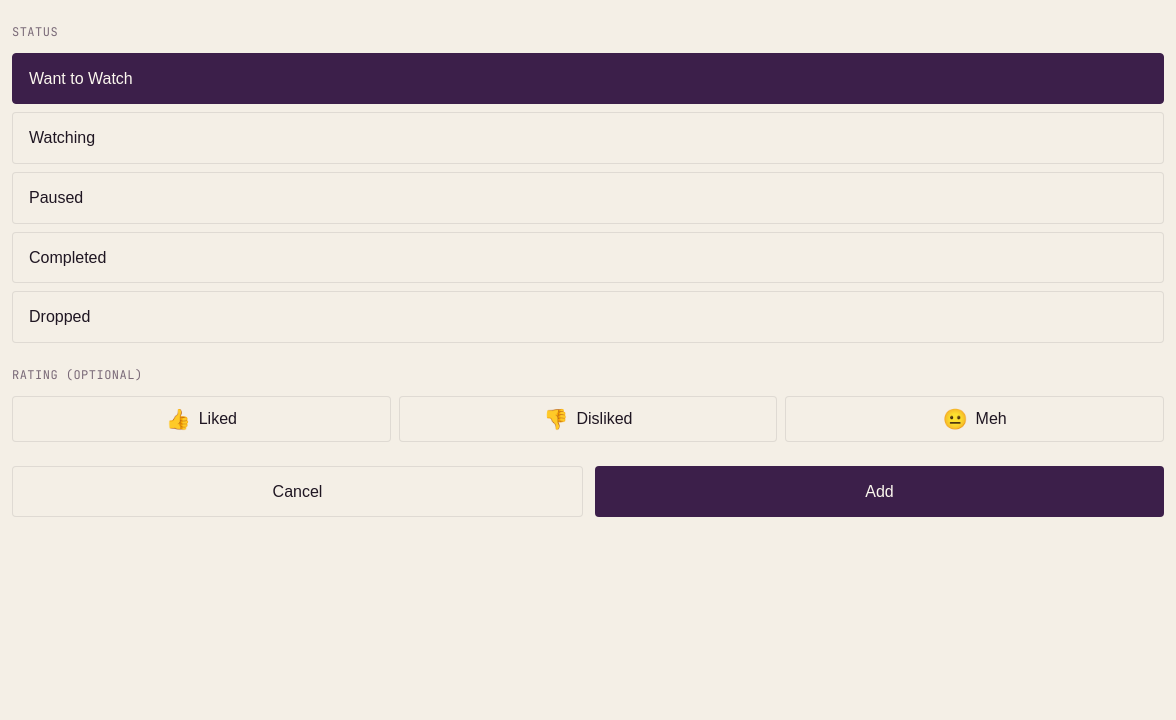
Test case: WatchEntryForm › shows season input when status is watching or paused
Click the radio button labelled "Watching": click(62, 138) [12,112,1164,164]
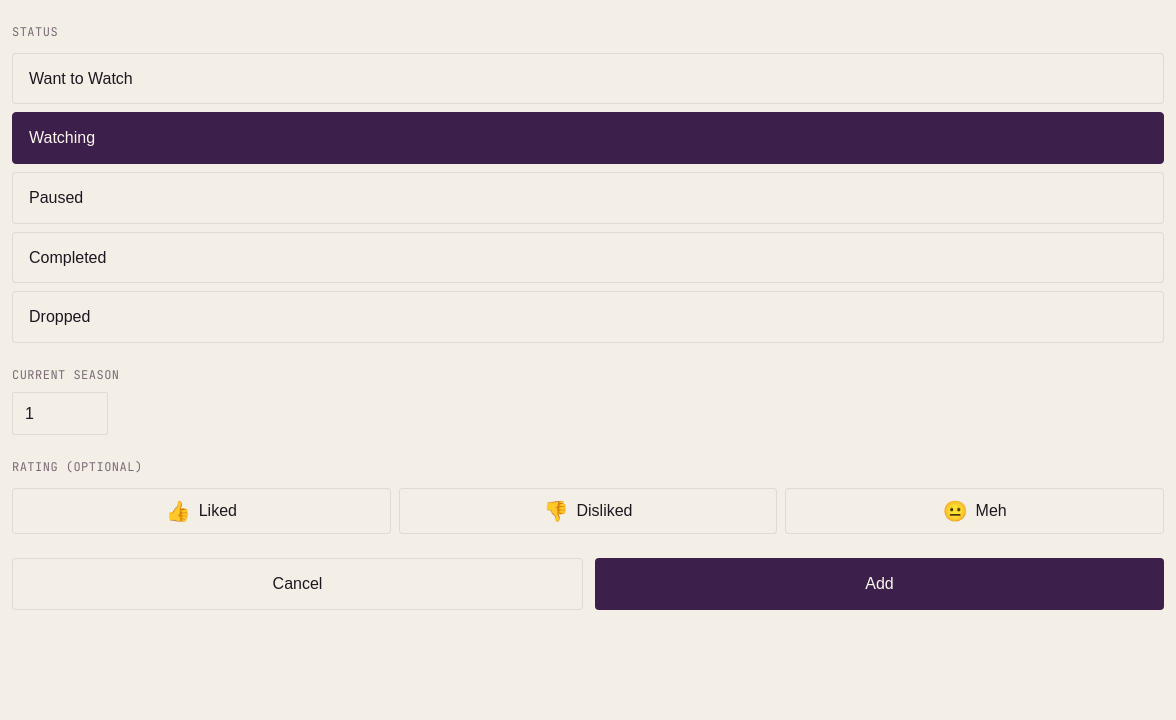
Expected: the number field labelled "Current season" is shown, [12,392,108,435]
Click the radio button labelled "Paused": click(56, 197) [12,172,1164,224]
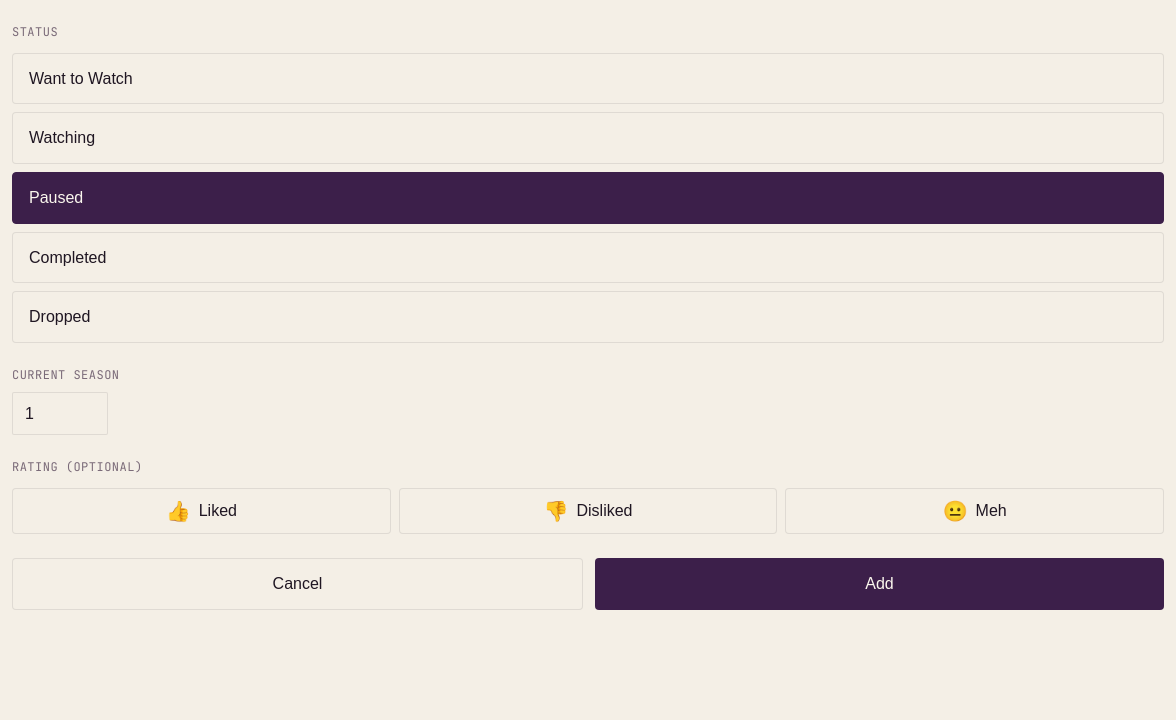
Expected: the number field labelled "Current season" is shown, [12,392,108,435]
Click the radio button labelled "Completed": click(68, 257) [12,232,1164,283]
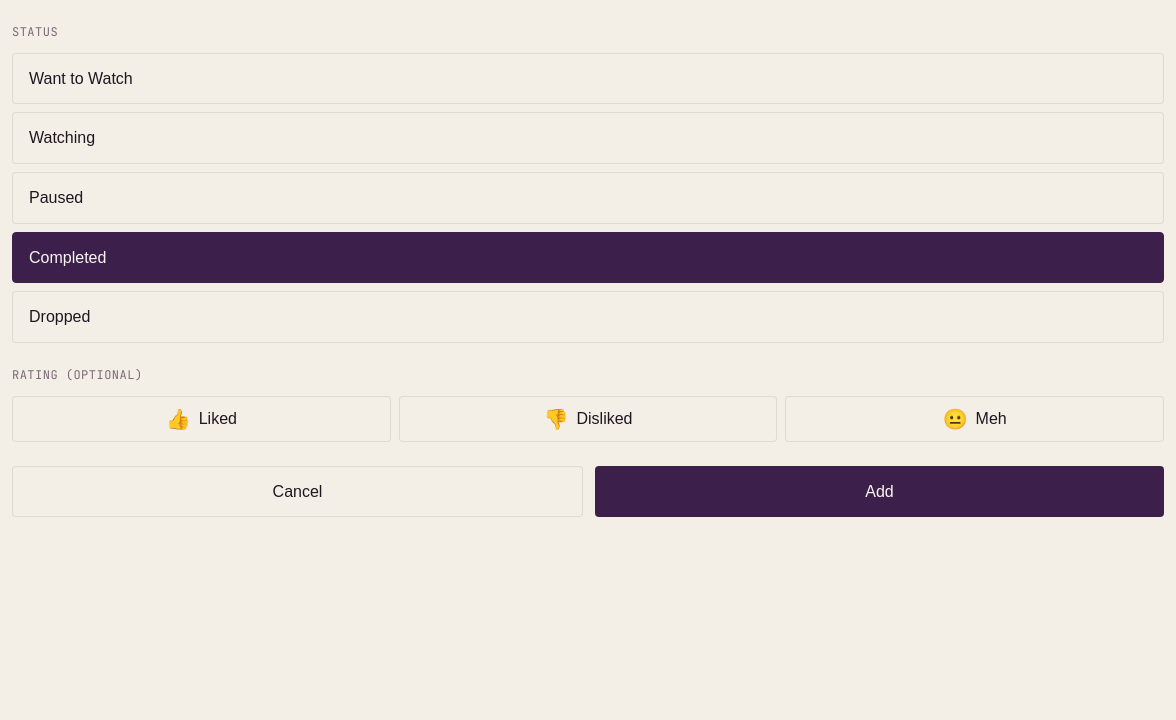
Expected: the label labelled "Current season" is gone
